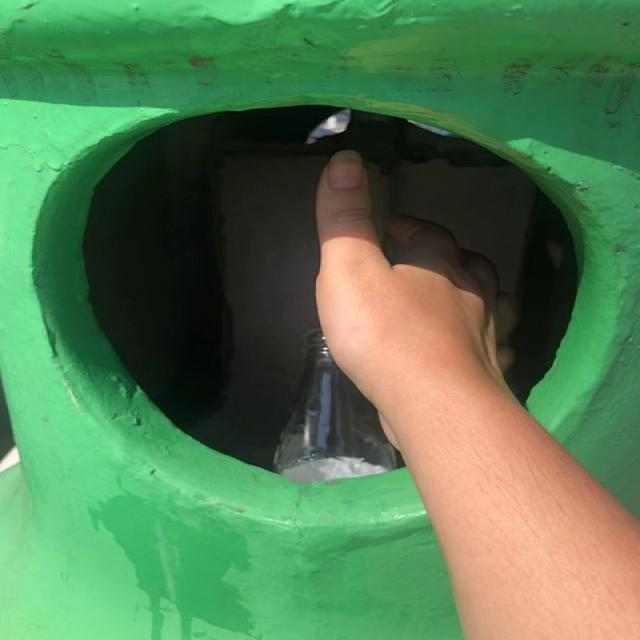Glass: (273, 329, 397, 482)
